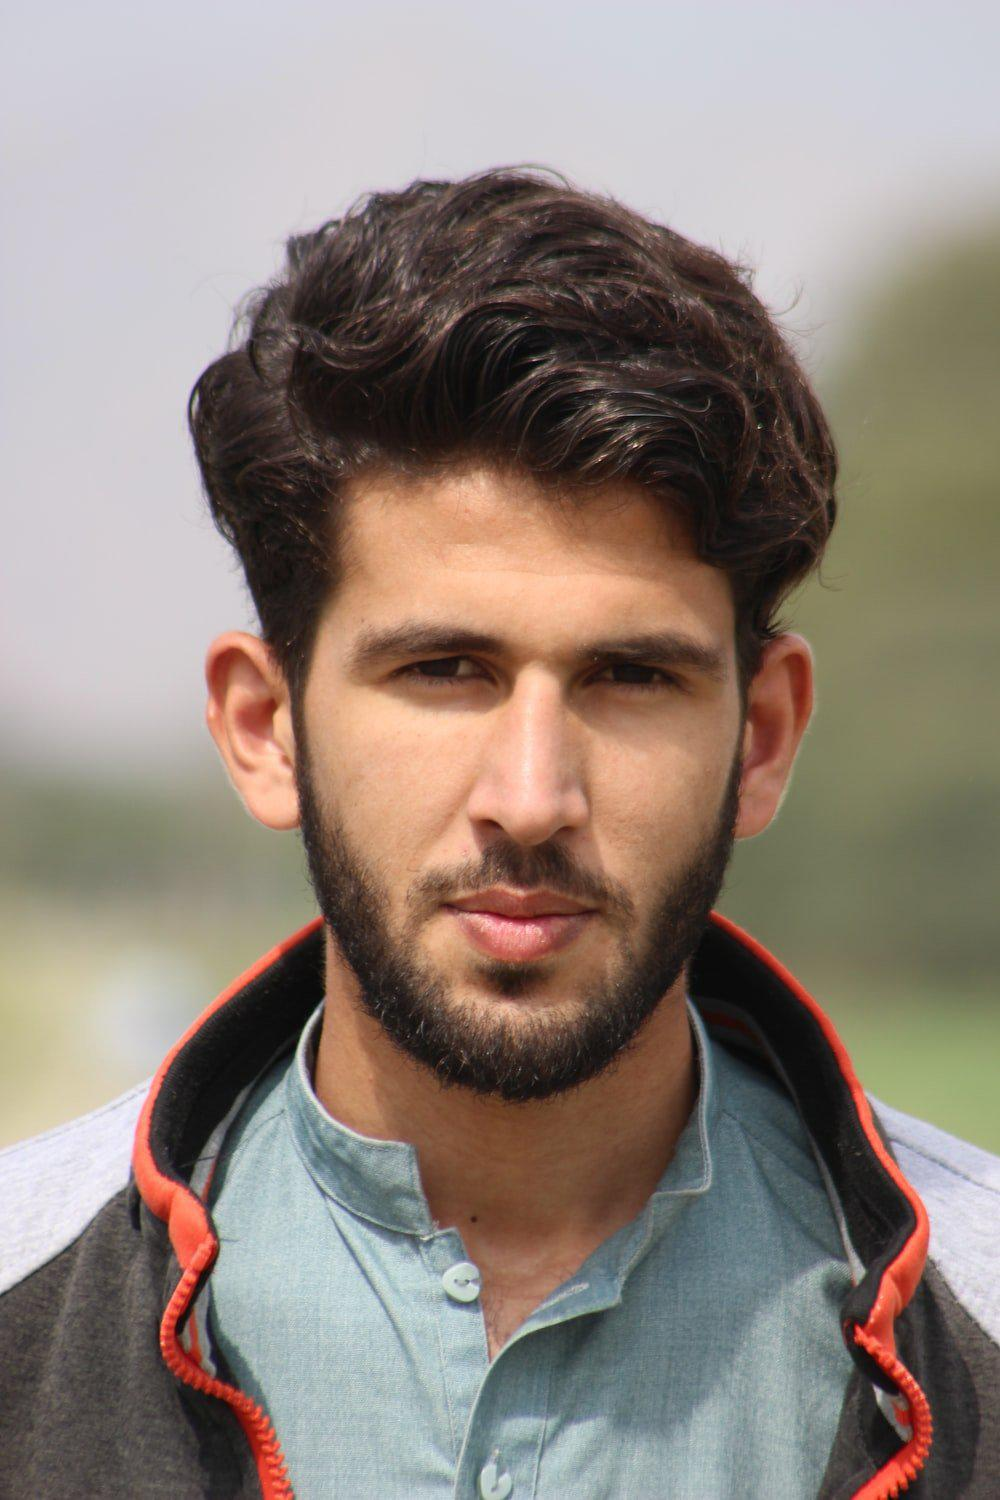Sober: (321, 474, 722, 1065)
